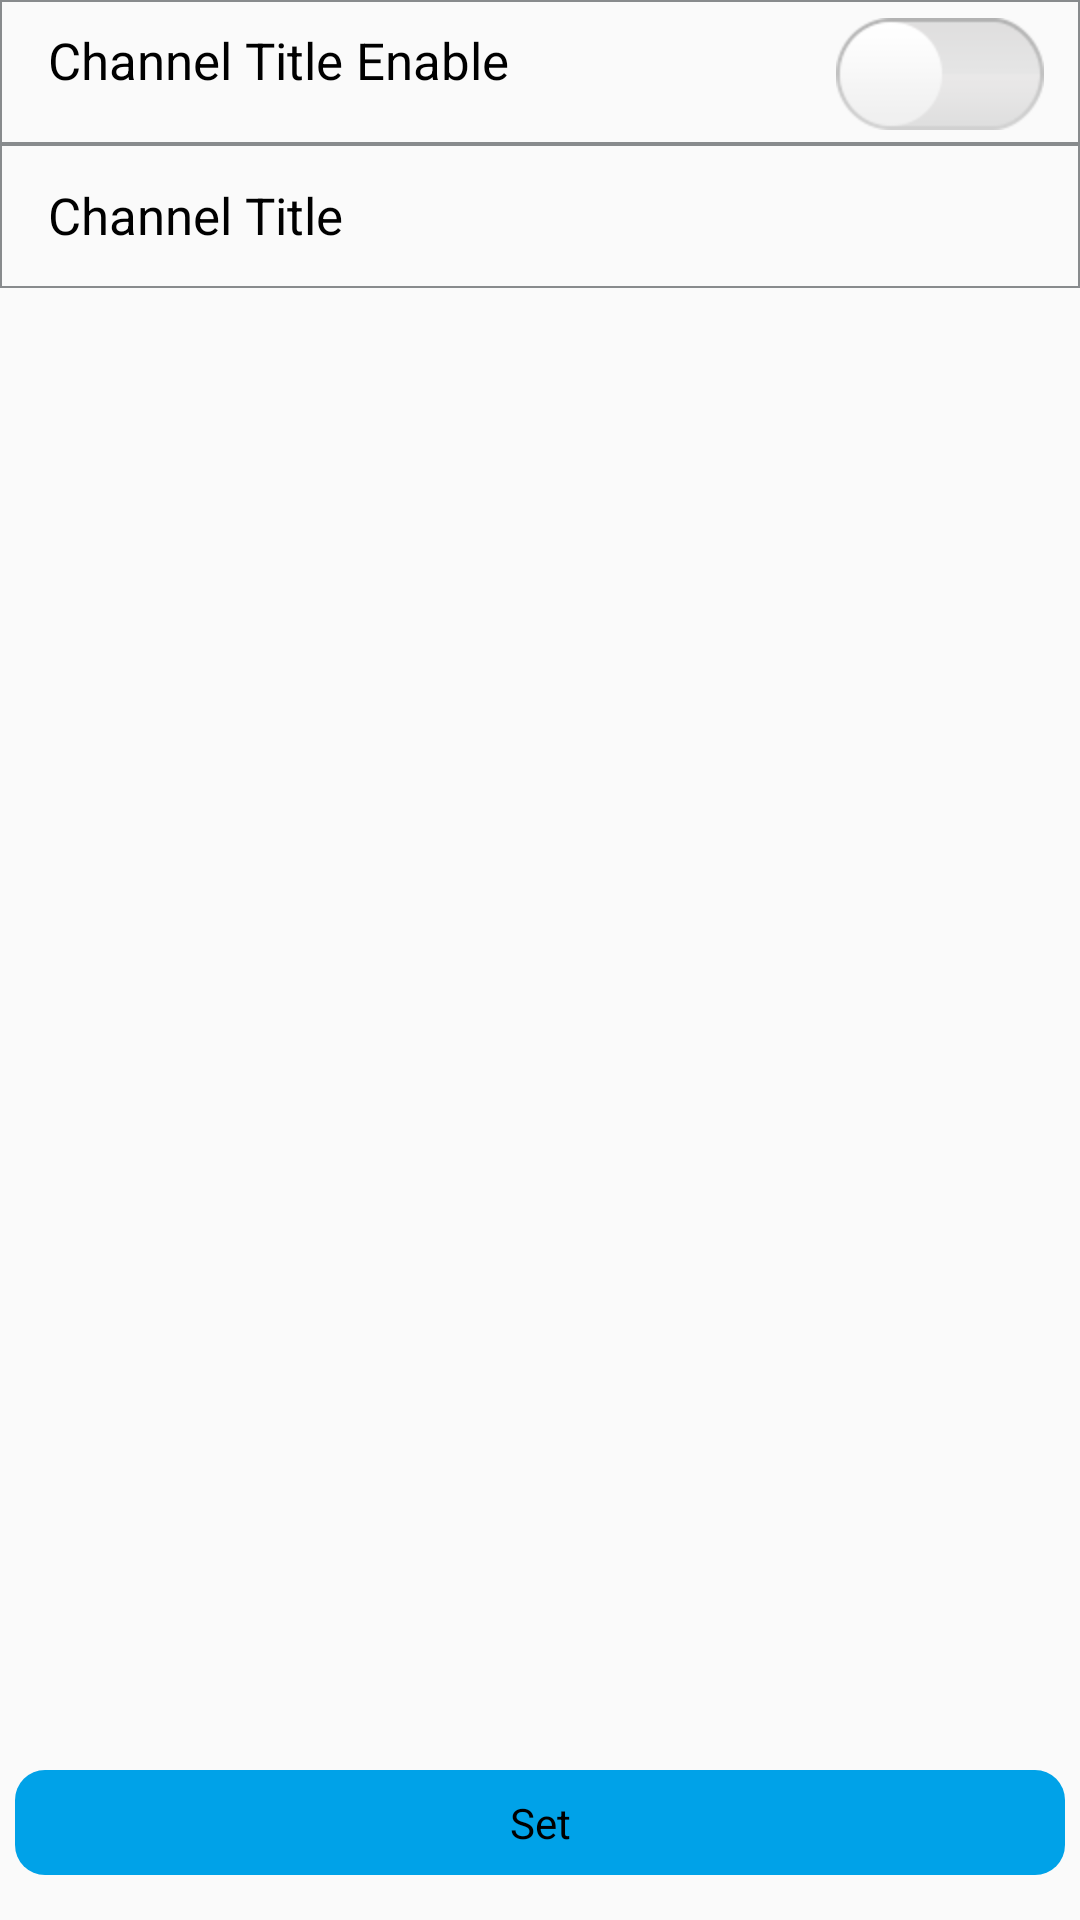

Icon click points for this 1080×1920 phone screenshot, format (x,y):
on off: (940,74)
